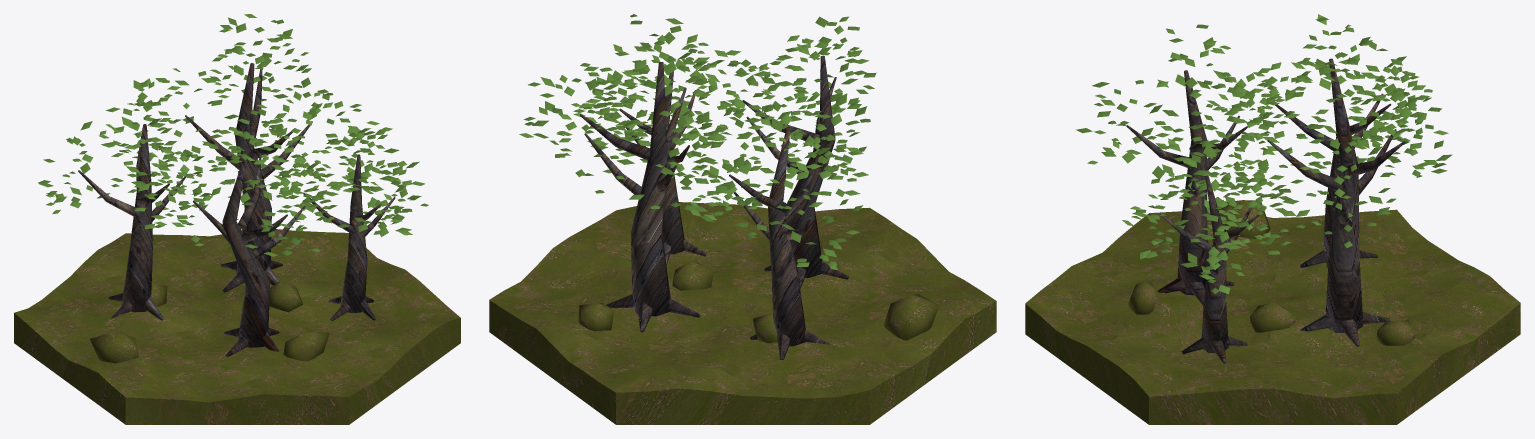
File: env-terrain-forest-mobile.glb
The picture shows the model from 3 angles, left to right: view 1: azimuth 30°, elevation 25°; view 2: azimuth 150°, elevation 25°; view 3: azimuth 270°, elevation 25°; orthographic projection. The views are drawn at different scales.
Visible parts, largest first — view 1: terrain forest · authored textured miniature; view 2: terrain forest · authored textured miniature; view 3: terrain forest · authored textured miniature.
Boxes of the visible parts, bbox=[...] form: terrain forest · authored textured miniature: bbox=[14, 14, 460, 424]; terrain forest · authored textured miniature: bbox=[489, 14, 996, 424]; terrain forest · authored textured miniature: bbox=[1025, 14, 1520, 424].
Bounding box in the file's own units: 1.63 × 1.34 × 1.88.
Materials: 3 (2 with a texture image).
